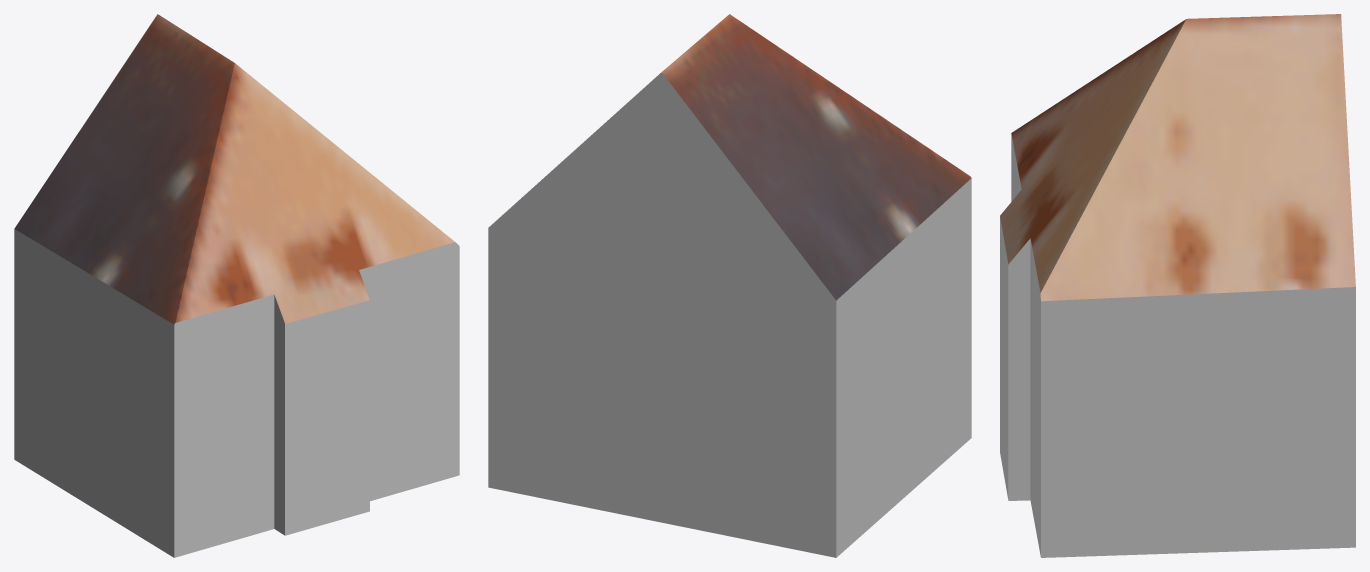
File: DEBW_0010007Txcv.gltf
The picture shows the model from 3 angles, left to right: view 1: azimuth 30°, elevation 25°; view 2: azimuth 150°, elevation 25°; view 3: azimuth 270°, elevation 25°; orthographic projection. The views are drawn at different scales.
Visible parts, largest first — view 1: Z_UP; view 2: Z_UP; view 3: Z_UP.
Boxes of the visible parts, x1=… form: Z_UP: x1=14, y1=14, x2=459, y2=557; Z_UP: x1=488, y1=14, x2=971, y2=557; Z_UP: x1=1000, y1=14, x2=1355, y2=557.
Bounding box in the file's own units: 11.74 × 14.26 × 10.17.
Materials: 2 (1 with a texture image).
